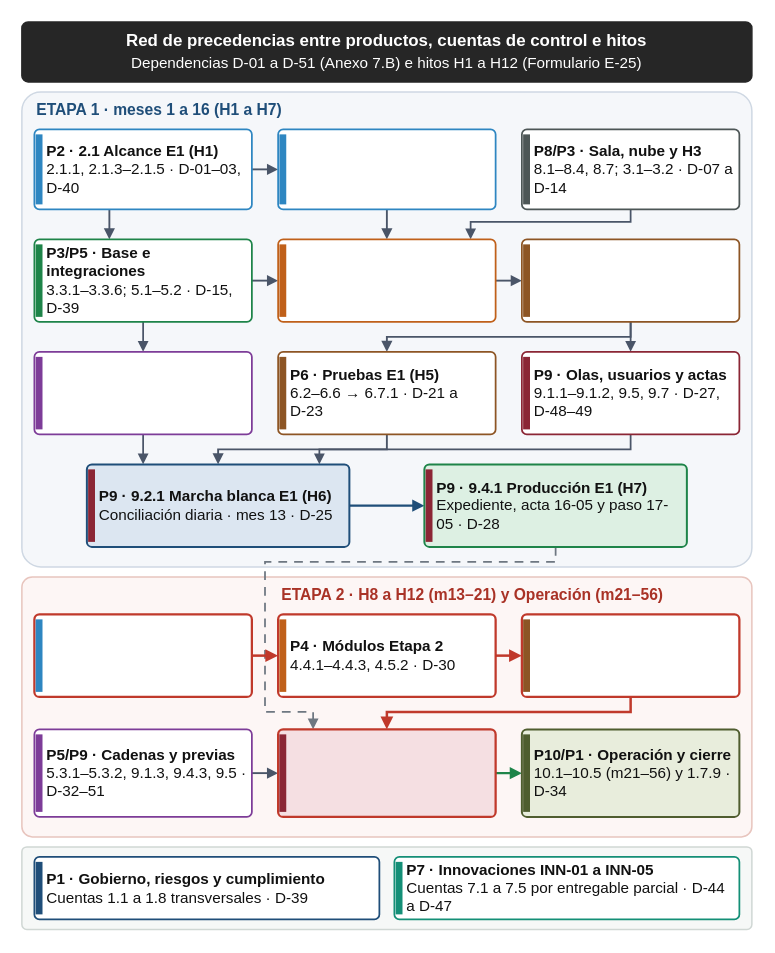
The diagram is 775 pixels wide and 953 high, and some of its shapes have lost their labels. The centre of each missing label's shape, as x and y in pixels:
"P2 · Diseño E1 (H2) 2.2–2.3, 2.6 → 2.8.1 · D‑04 a D‑06" belongs at (x=386, y=169).
"P2 · Diseño E2 (H8) 2.1.2, 2.8.2 · mes 14 · D‑29" belongs at (x=142, y=655).
"P2/P5/P8 · Previo a MB E1 2.7 frío, 5.4 datos, 8.6 campo · D‑24–38" belongs at (x=142, y=392).
"P4 · Módulos Etapa 1 4.1–4.3, 4.5.1 · D‑16 a D‑19" belongs at (x=386, y=280).
"P6 · 6.1.1 Integrac. (H4) QA completo E1 · D‑20" belongs at (x=630, y=280).
"P6 · Certific. E2 (H9–H10) 6.1.2 → 6.2–6.6 → 6.7.2 · D‑31–31c" belongs at (x=630, y=655).
"P9 · MB E2 (H11) y H12 9.2.2 → 9.4.2 acta 17-10 · D‑33" belongs at (x=386, y=772).
